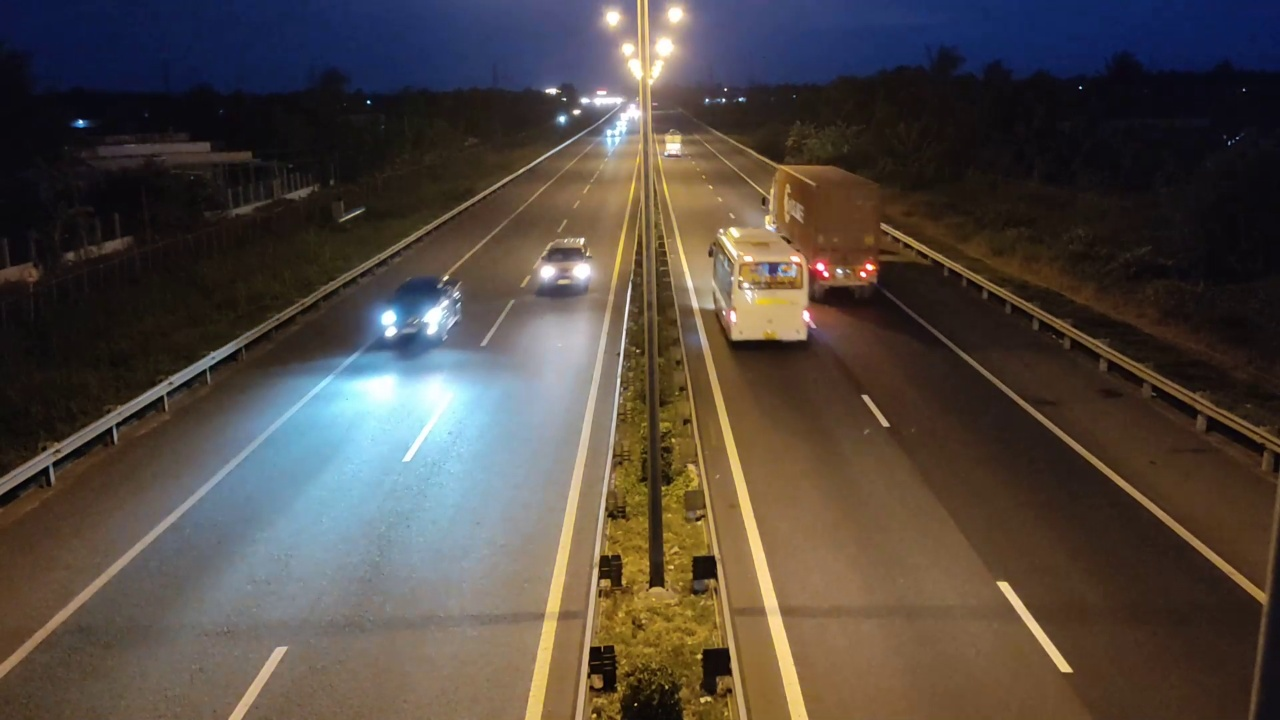bus: (707, 224, 813, 345)
car: (377, 275, 463, 347), (533, 237, 593, 297)
truck: (765, 163, 883, 303)
